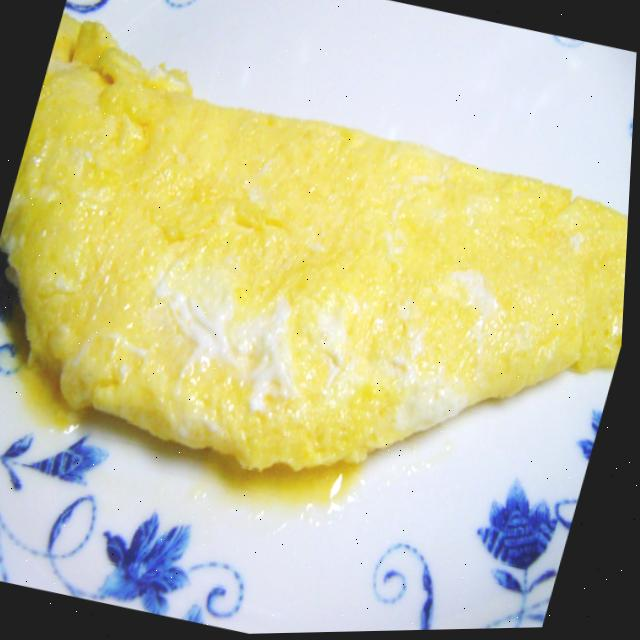鸡蛋料理: (0, 8, 639, 563)
